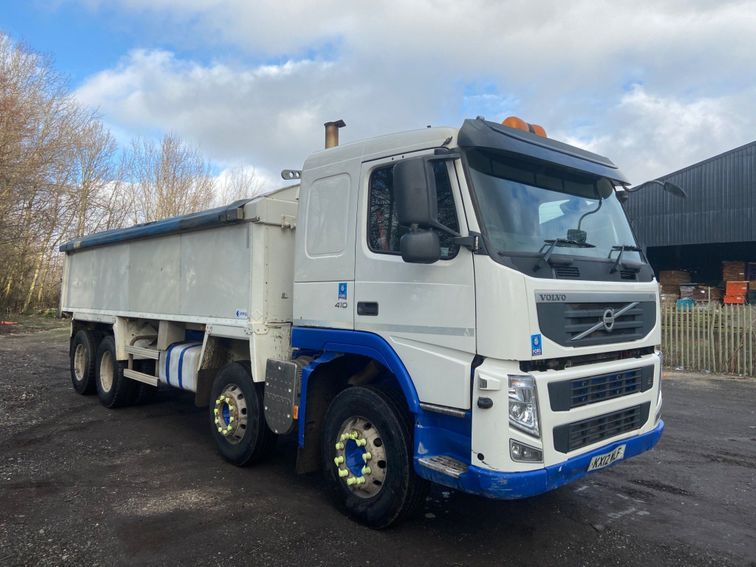Semi: (58, 115, 664, 529)
